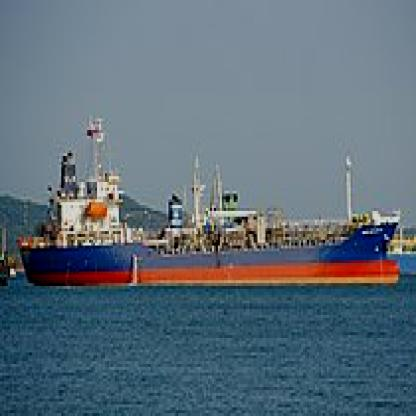Tanker: (16, 101, 410, 292)
